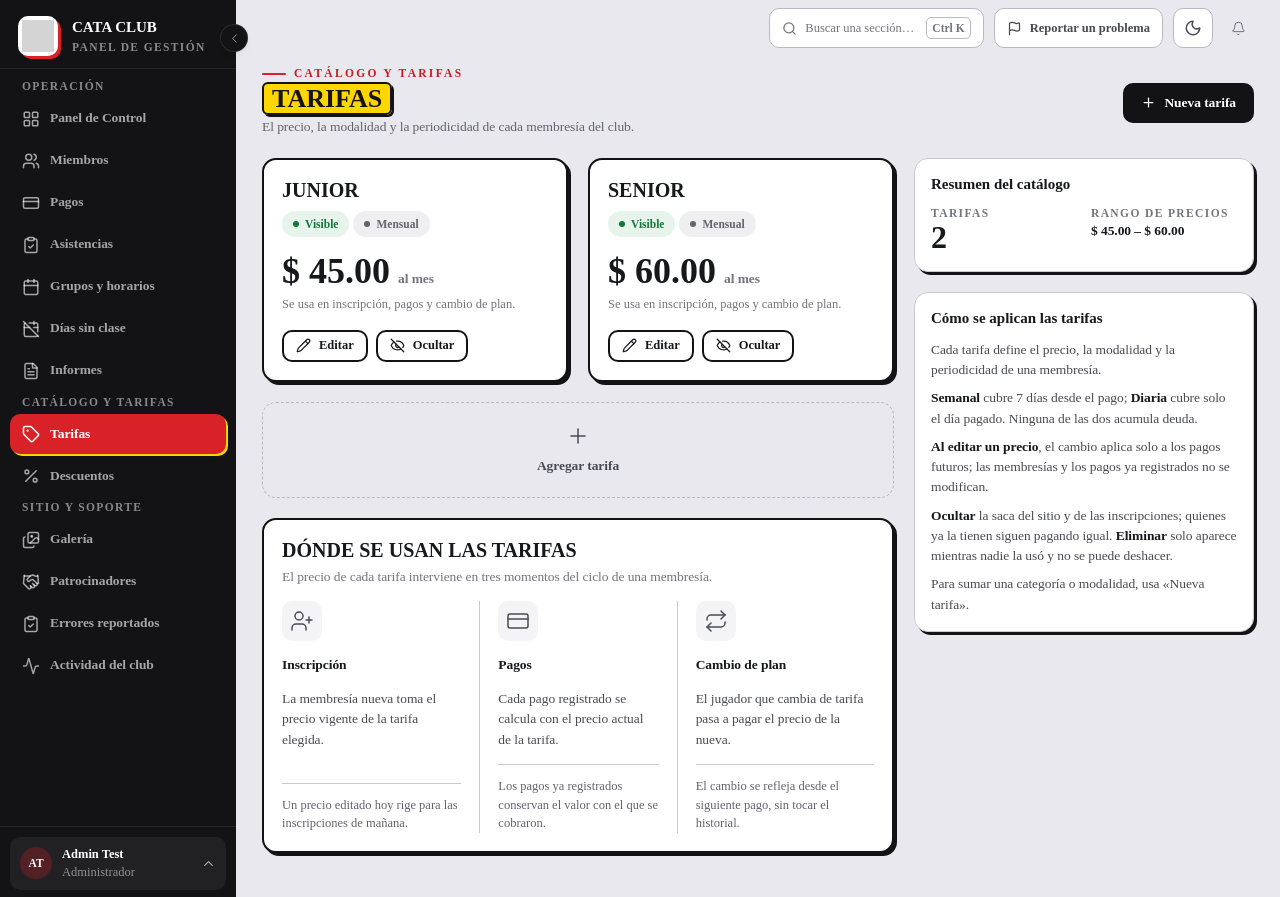
Scenario: TarifasPage — editar precio › surfaces the backend's failure message instead of a generic one
Click the button "Editar" below "Junior" at coordinates (325, 346), box [282, 330, 368, 362]
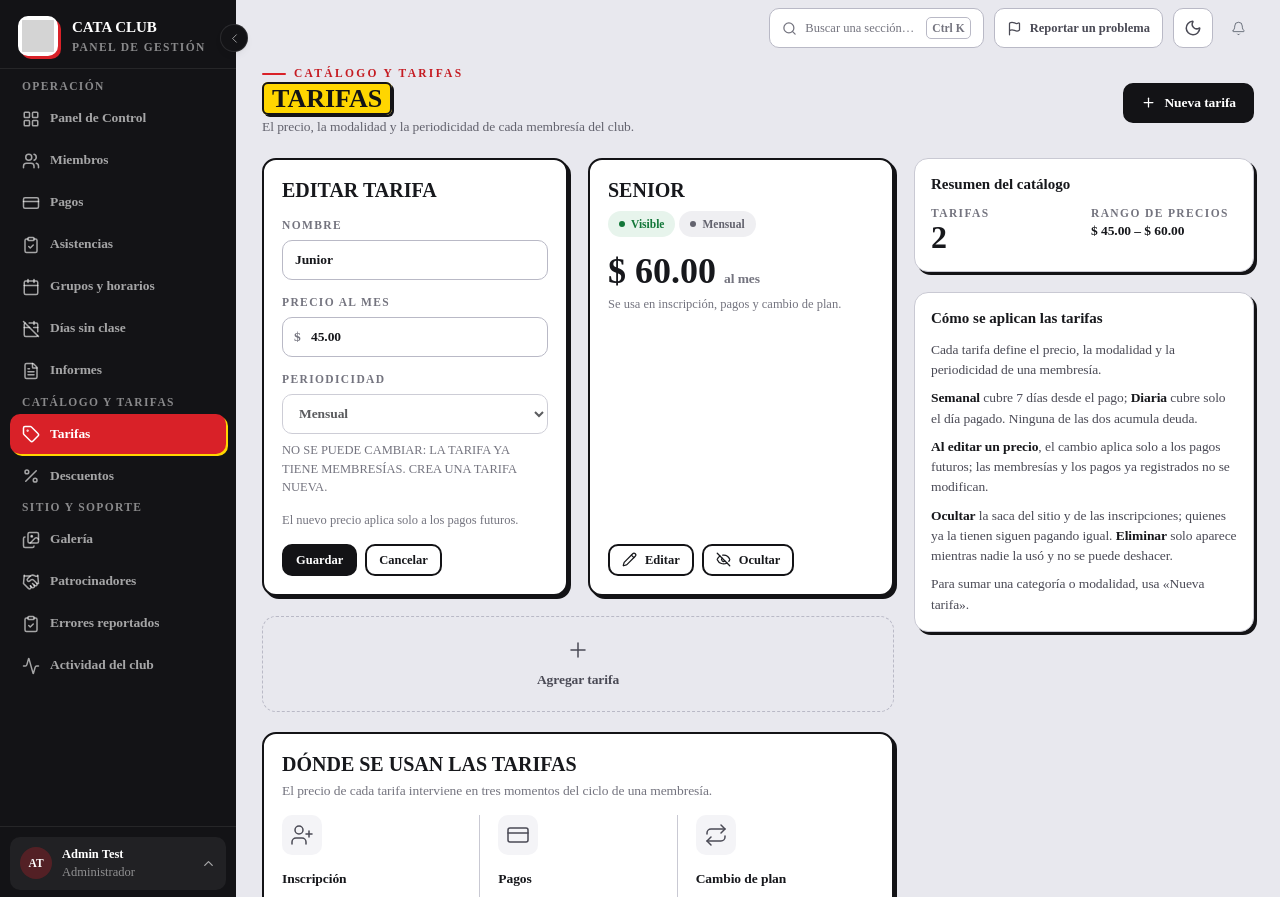
Replace the text in the field named "precio de junior" with "50.00" at coordinates (415, 337), box [282, 317, 548, 357]
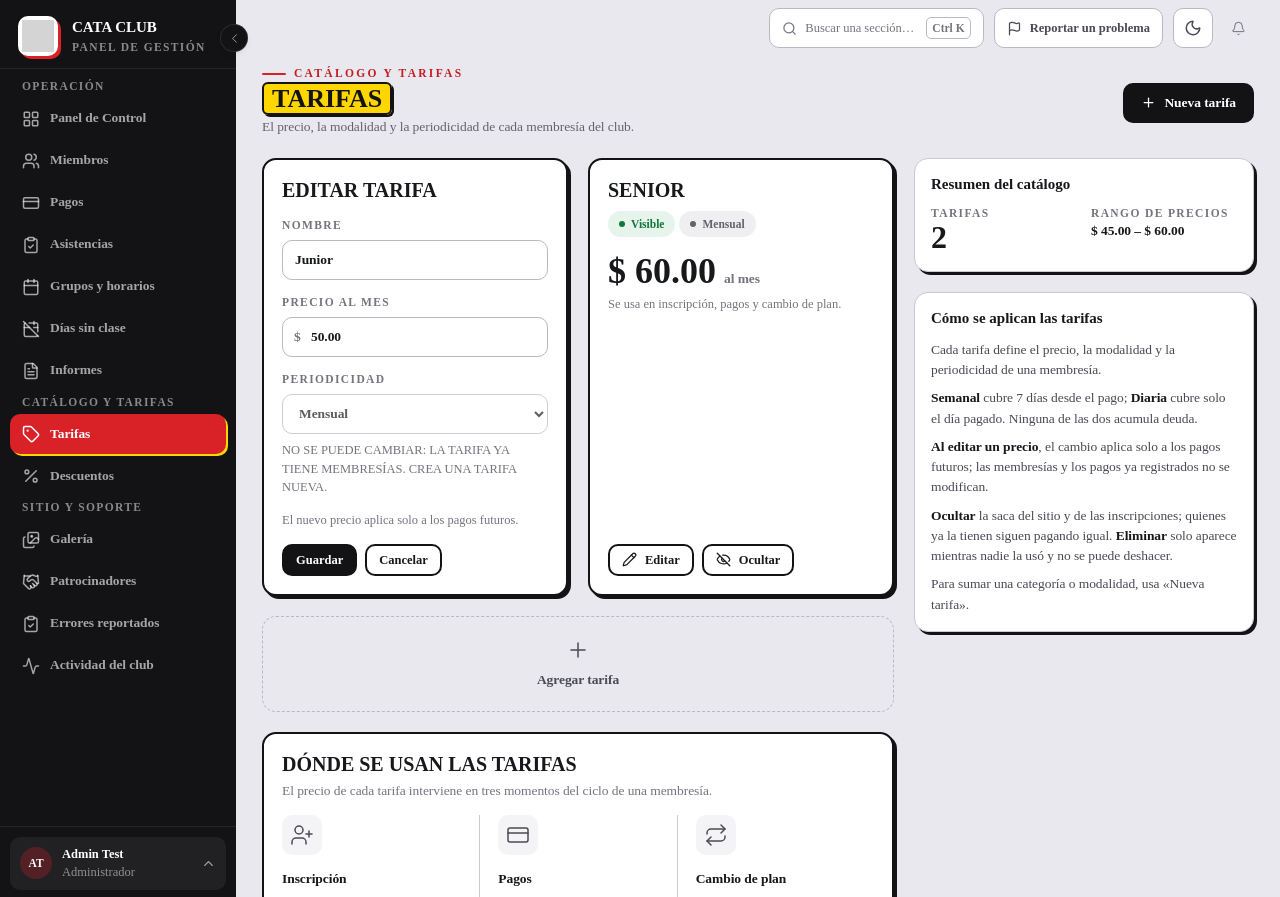
Click the button "Guardar" at coordinates (320, 560), box [282, 544, 357, 576]
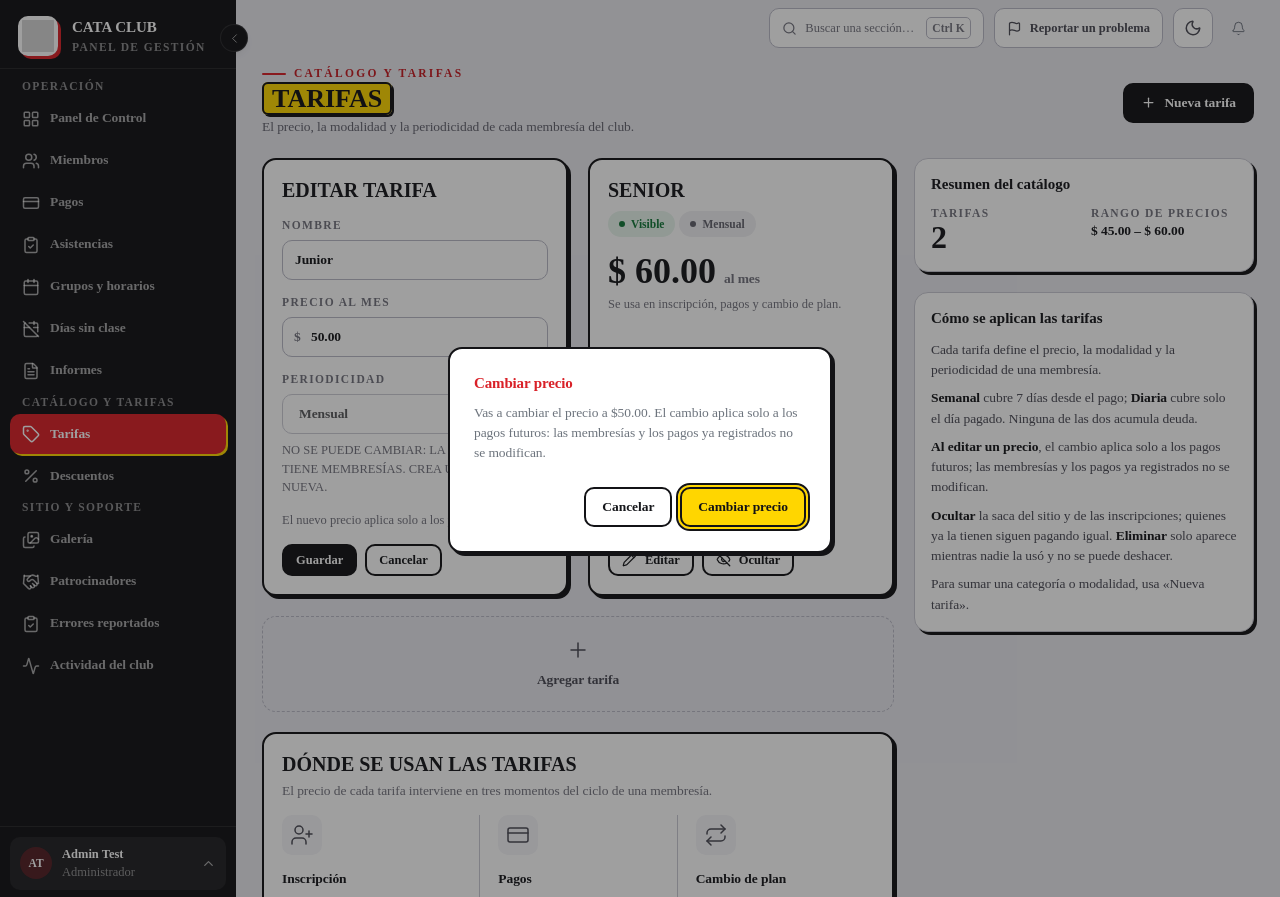
Click the button "Cambiar precio" at coordinates (743, 507), box [680, 487, 806, 527]
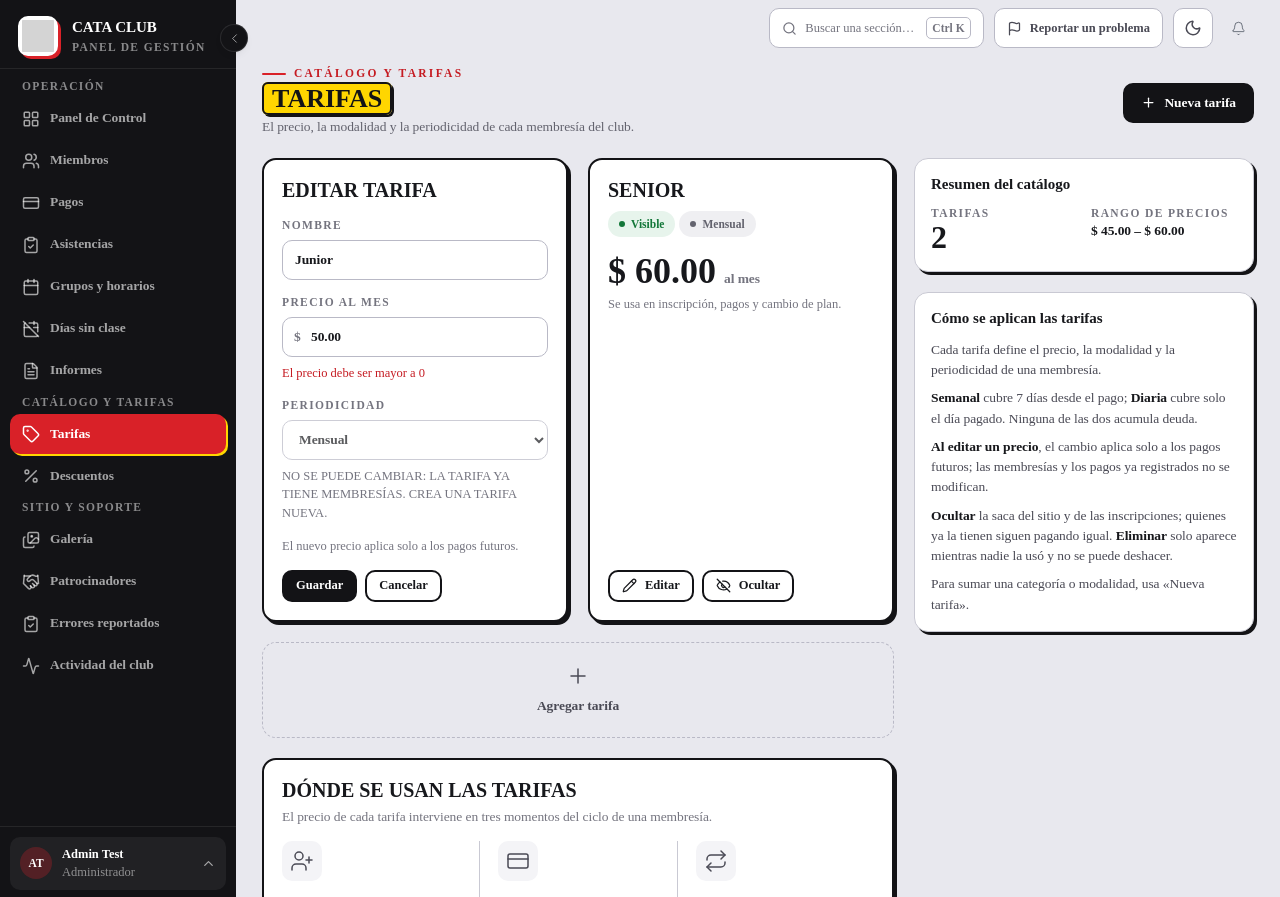
Now the text "El precio debe ser mayor a 0" is shown, box [282, 366, 425, 380]
